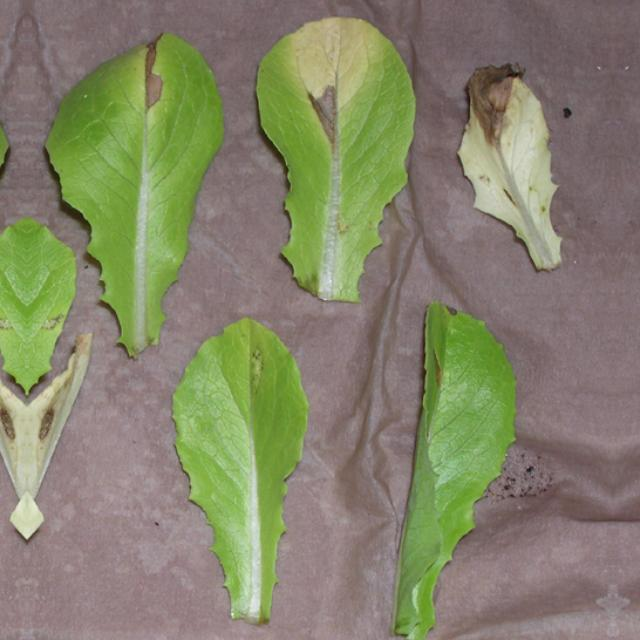Lettuce - Anthracnose: (49, 40, 220, 360), (258, 16, 412, 306), (395, 294, 515, 638), (174, 324, 306, 630), (455, 61, 575, 270), (0, 40, 2, 360)
